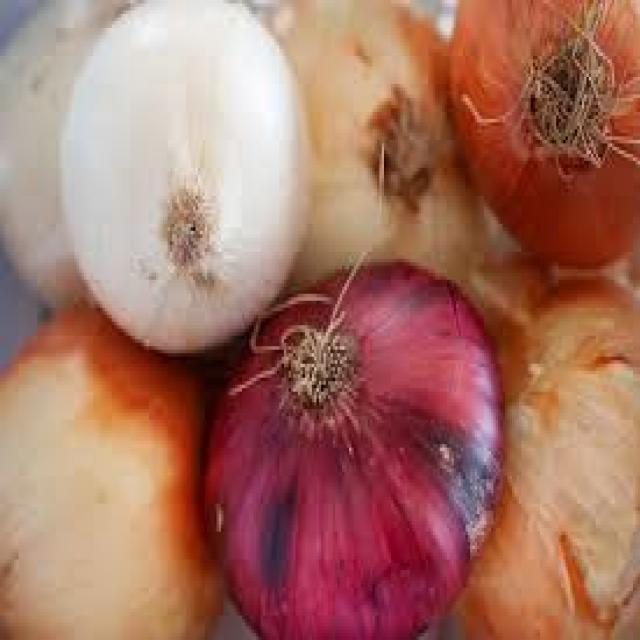Onion: (203, 257, 509, 640), (59, 0, 317, 354), (2, 302, 227, 640), (257, 0, 494, 287), (459, 274, 640, 640), (452, 3, 640, 271), (4, 4, 139, 308)
